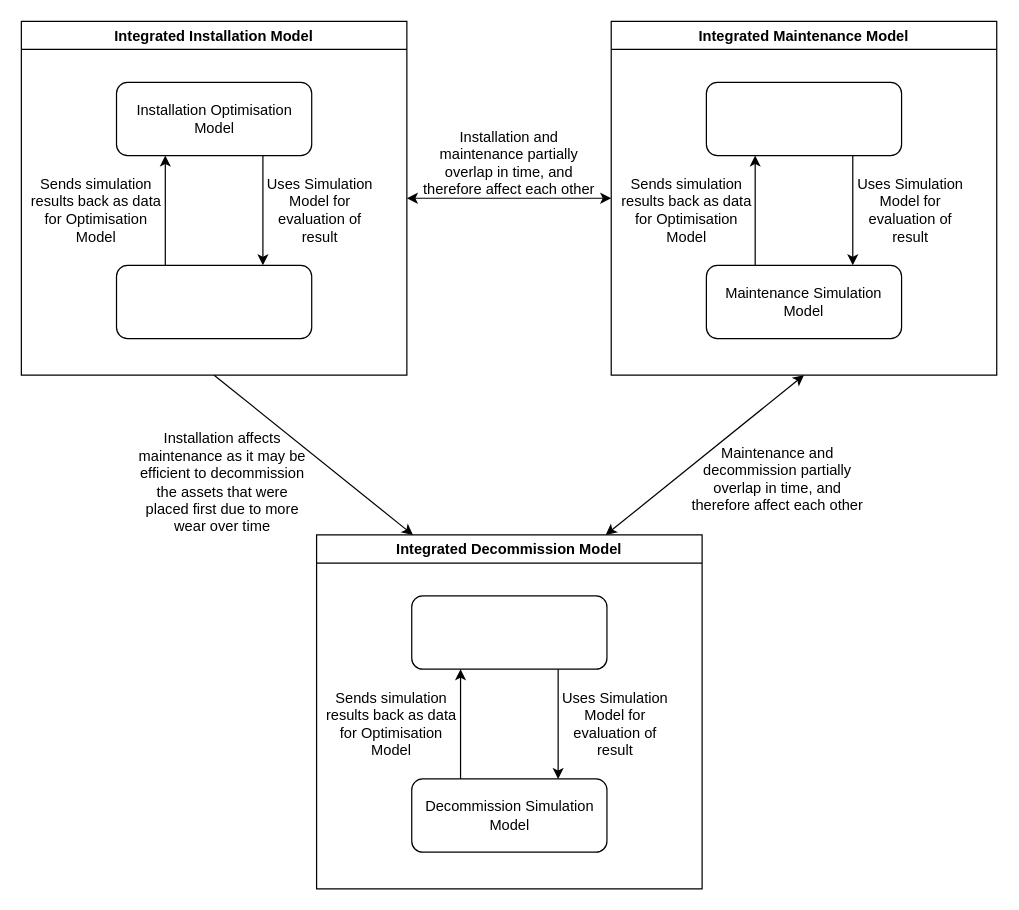
Some shapes in this 1019 by 910 pixel diagram are drawn without their labels. Here are the shapes that lost their labels. From the top down, the centre of each, then its label:
(803,118): Maintenance Optimisation Model
(213,301): Installation Simulation Model
(509,632): Decommission Optimisation Model
